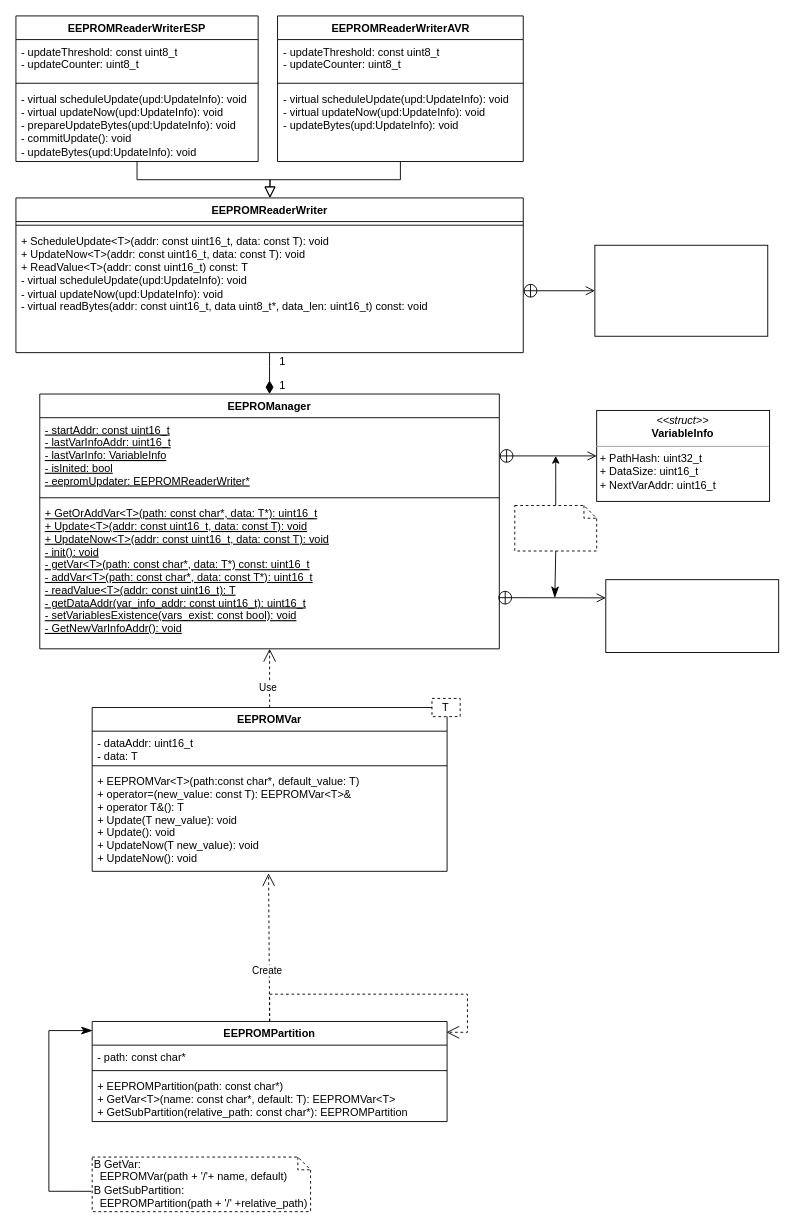
Image size: 795x1228. Some labels were removed from this diagram. The centre of each missing label's shape, as x and y in pixels:
"<<struct>> MetaData + ControlValue: uint16_t + ComileTimestamp: int32_t" goes at pixel 692 615.
"<<struct>> UpdateInfo + Addr: uint16_t + Data: uint8_t* + Size: uint16_t" goes at pixel 681 290.
"Приватная вложенная структура" goes at pixel 555 528.
